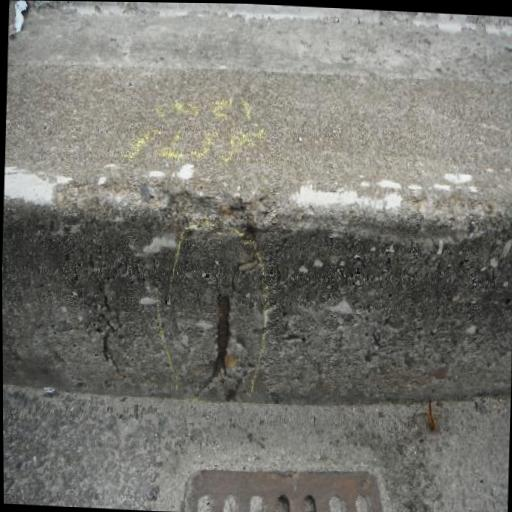exposed_rebar: (214, 295, 230, 372)
